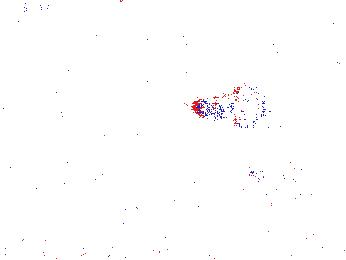flame jellyfish: (70, 171, 156, 229), (193, 83, 273, 131), (249, 167, 314, 213)
